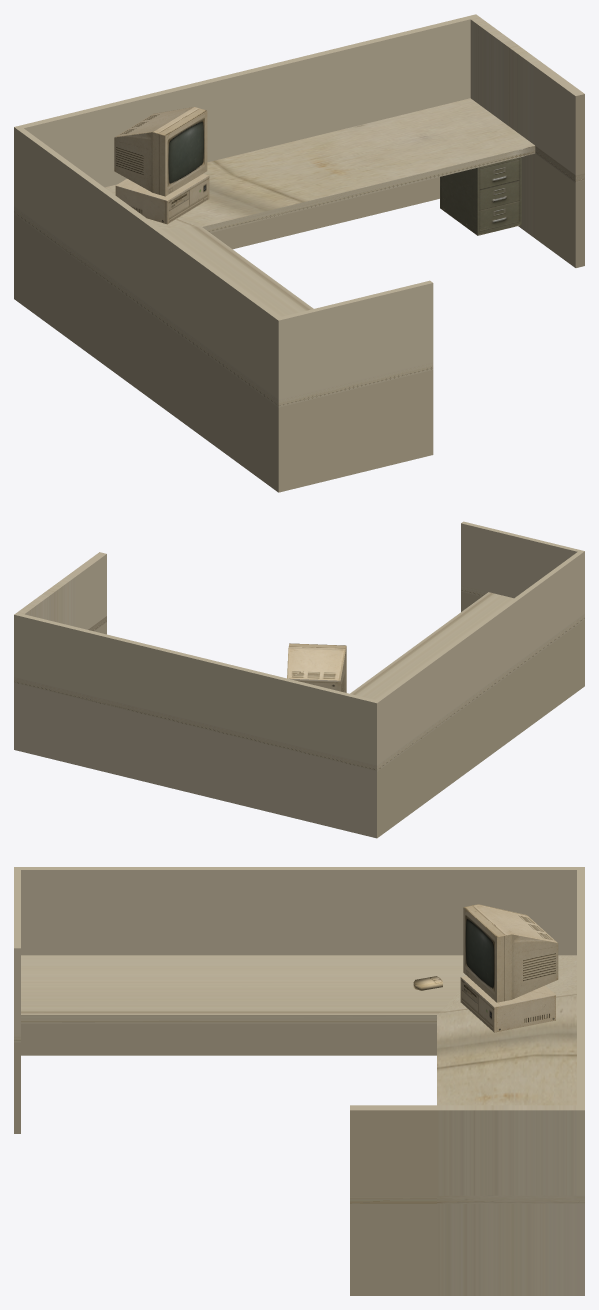
The model's file is cubical-test.glb.
The picture shows the model from 3 angles, top to bottom: view 1: azimuth 30°, elevation 25°; view 2: azimuth 150°, elevation 25°; view 3: azimuth 270°, elevation 25°; orthographic projection. The views are drawn at different scales.
Parts seen in each view (by area): view 1: Cube.004; view 2: Cube.004; view 3: Cube.004.
Boxes of the visible parts, left/top/right/bottom form: Cube.004: left=14, top=14, right=584, bottom=492; Cube.004: left=14, top=521, right=584, bottom=838; Cube.004: left=14, top=867, right=584, bottom=1295.
Bounding box in the file's own units: 9.2 × 3.45 × 9.13.
3 materials, 3 textured.
